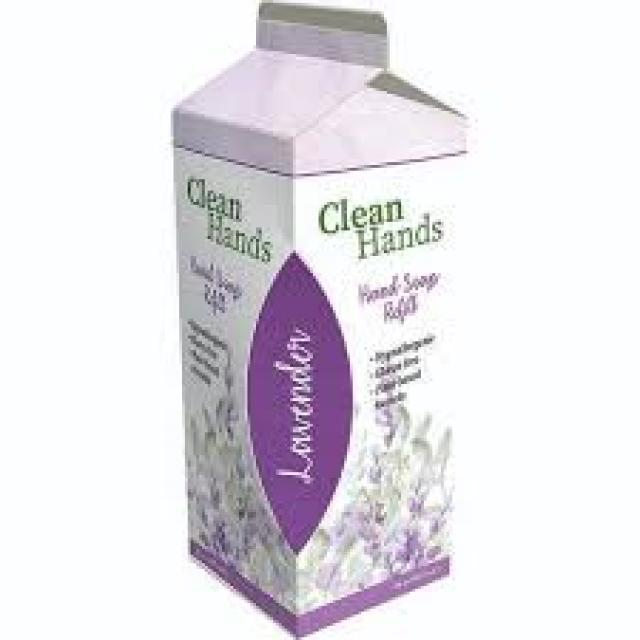non_white_jug: (149, 6, 468, 637)
